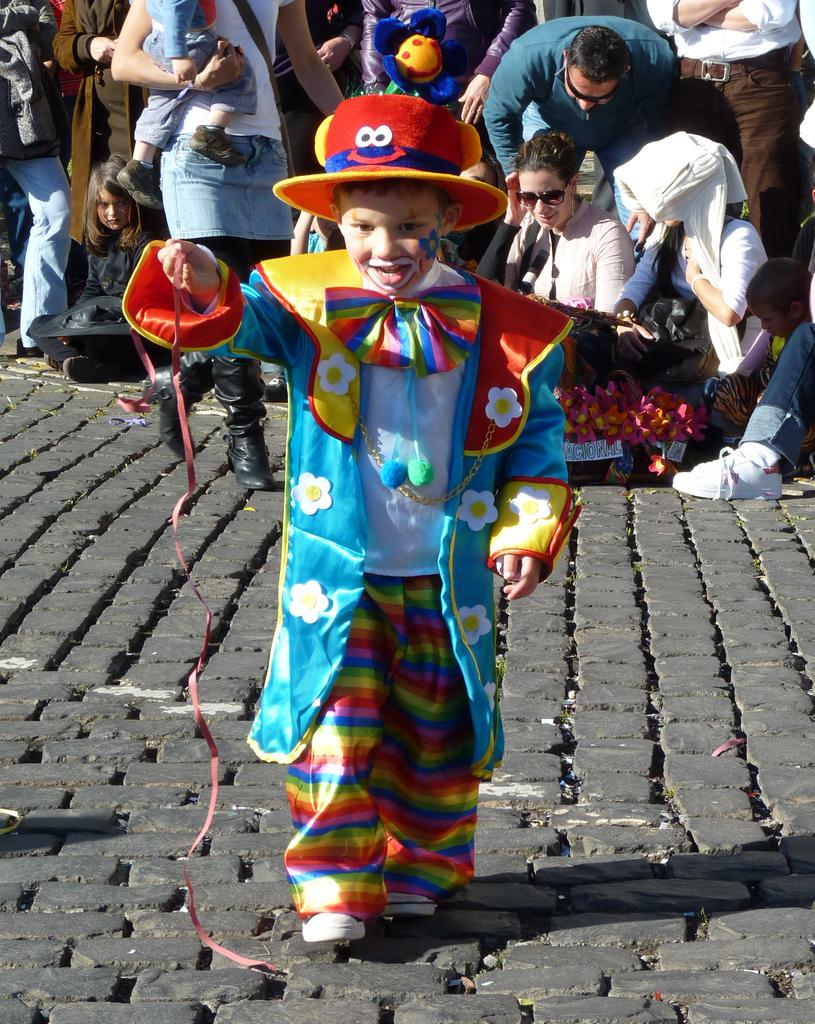Hat: (279, 93, 515, 220)
